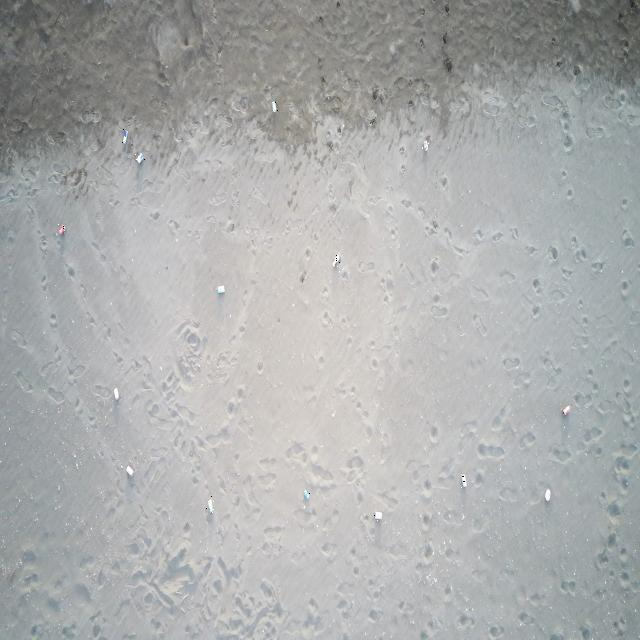Garbage: (332, 253, 340, 267), (134, 151, 143, 163), (121, 128, 128, 143), (124, 464, 132, 476), (112, 387, 119, 400), (56, 224, 64, 235), (207, 495, 212, 512), (303, 488, 310, 500), (460, 473, 466, 487), (544, 488, 550, 500), (422, 140, 428, 151), (562, 406, 569, 415), (216, 284, 223, 293), (373, 512, 380, 520), (272, 100, 276, 111)
